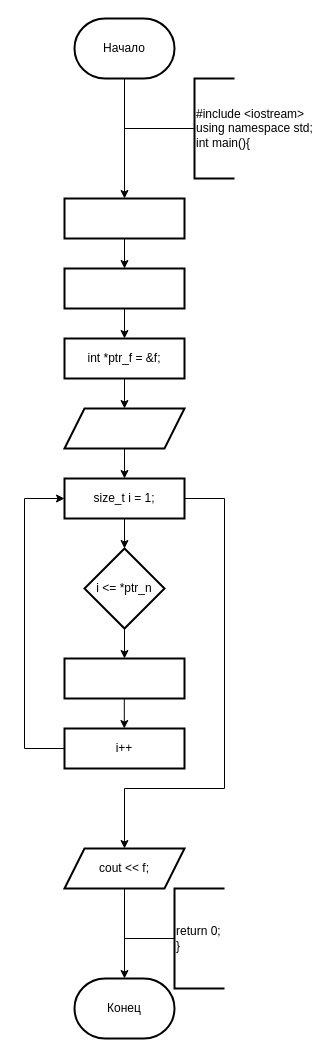
The diagram is 331 pixels wide and 1056 high, and some of its shapes have lost their labels. Each missing label, with the centre of its shape:
"*ptr_f *= i;" belongs at (x=124, y=678).
"cin >> *ptr_n;" belongs at (x=124, y=428).
"int *ptr_n = &n;" belongs at (x=124, y=288).
"int n, f = 1;" belongs at (x=124, y=218).
